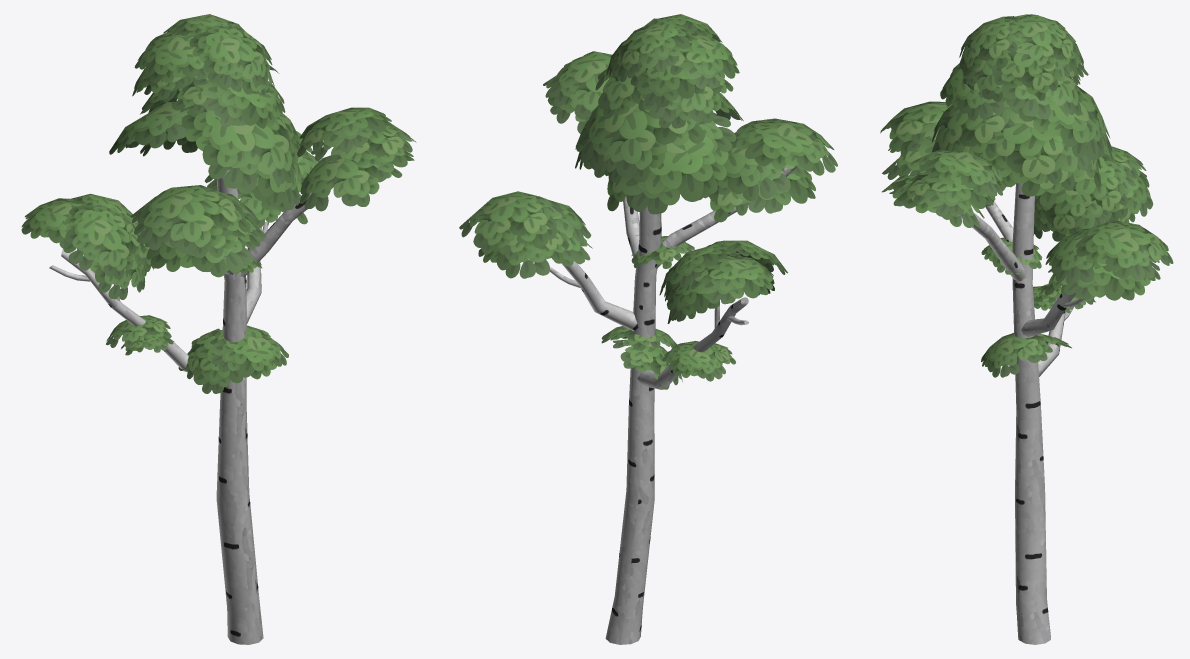
Rendered from birch_10.glb.
3 renders of one model, left to right at view 1: azimuth 30°, elevation 25°; view 2: azimuth 150°, elevation 25°; view 3: azimuth 270°, elevation 25°, orthographic. The views are drawn at different scales.
Visible parts, largest first — view 1: Birch_10; view 2: Birch_10; view 3: Birch_10.
Part boxes in pixels (box(x1,y1,x2,y2)): Birch_10: box(21, 14, 416, 644); Birch_10: box(459, 14, 837, 644); Birch_10: box(880, 14, 1173, 644).
Size of the model in its own units: 5.36 by 10.23 by 4.74.
Materials: 2 (2 with a texture image).
